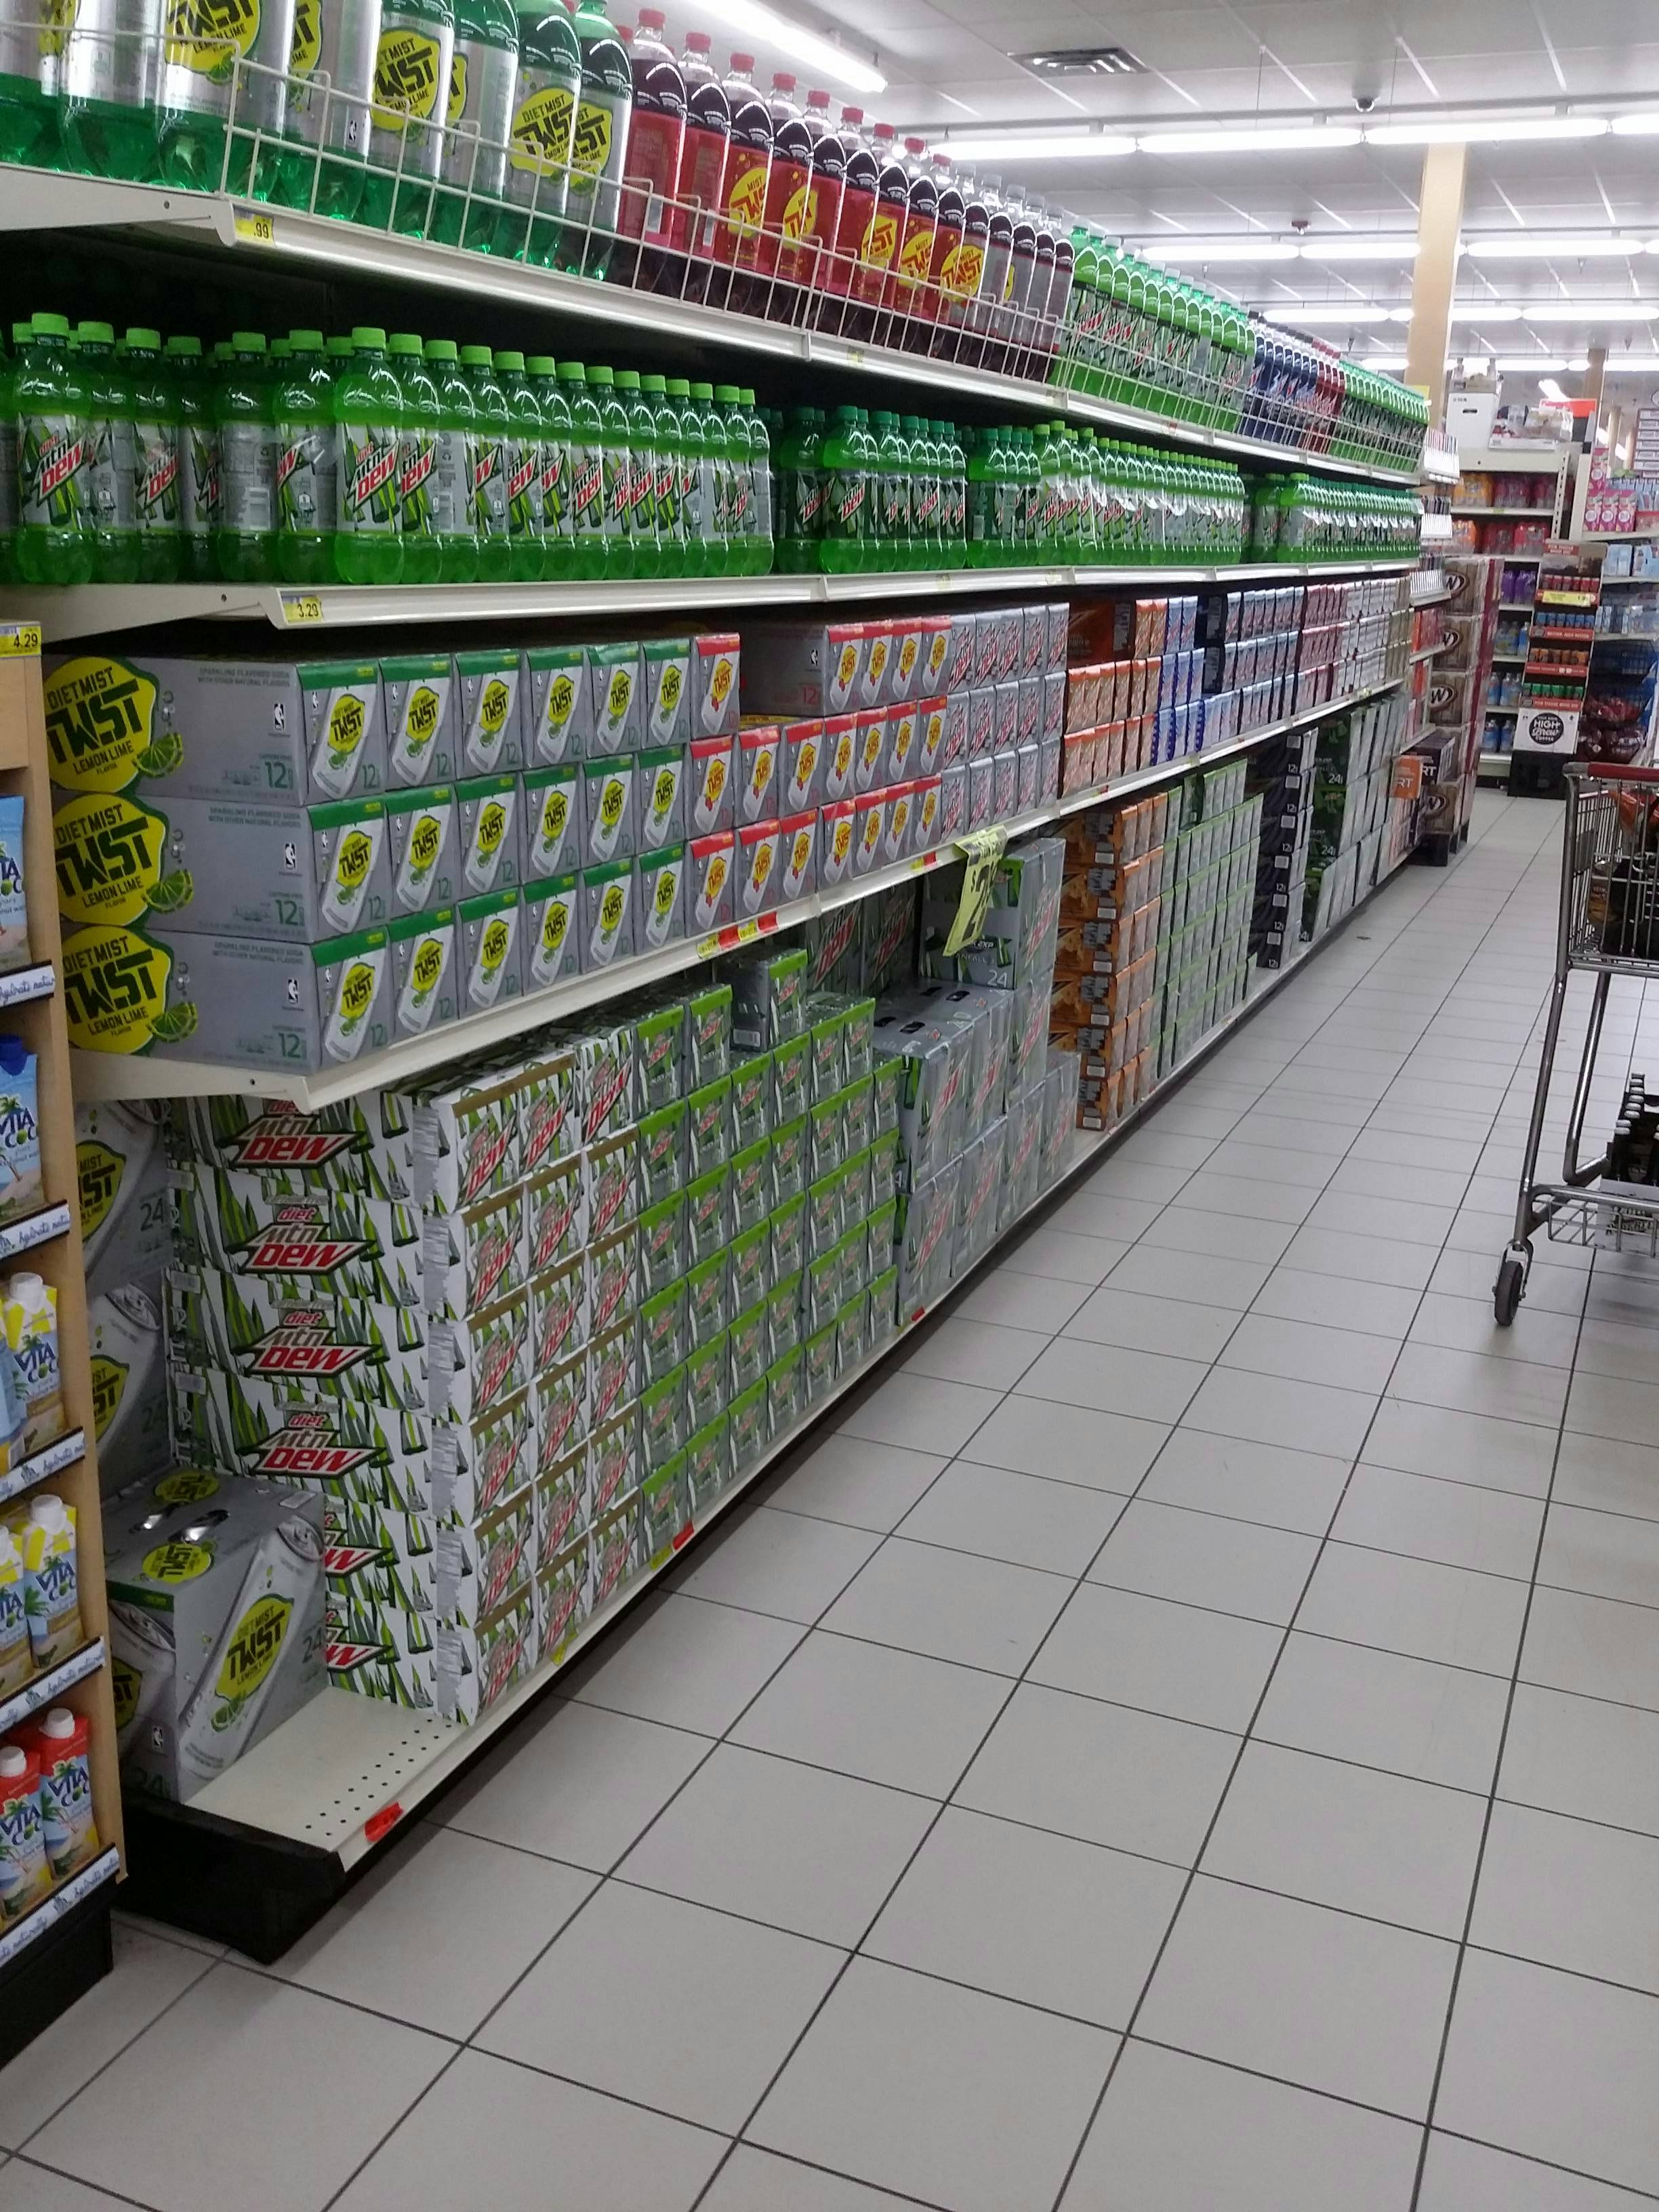Misplacement: (71, 1096, 471, 1871), (816, 850, 1023, 1372), (35, 305, 335, 603)
Out-of-stock: (1075, 806, 1117, 1162), (1255, 742, 1297, 996)
